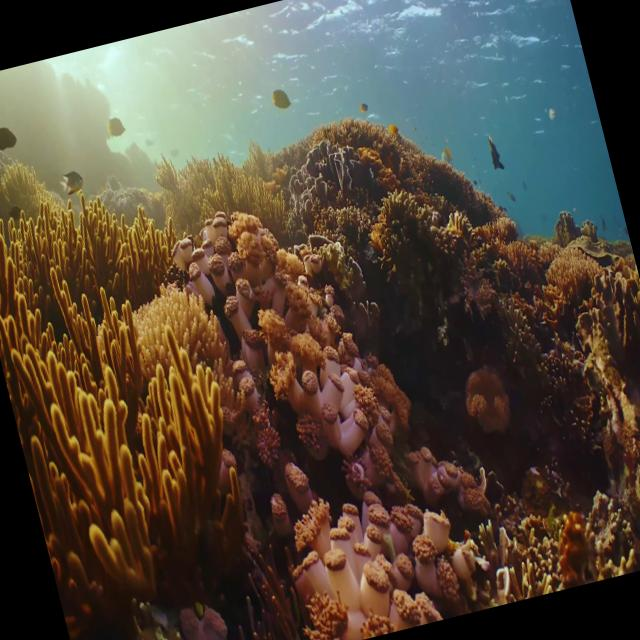fish: (54, 162, 90, 202), (0, 117, 27, 167), (102, 110, 134, 146), (484, 126, 508, 174), (270, 80, 294, 112)
